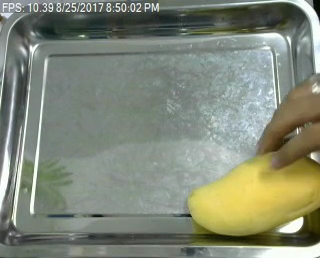Mango: (179, 152, 320, 237)
